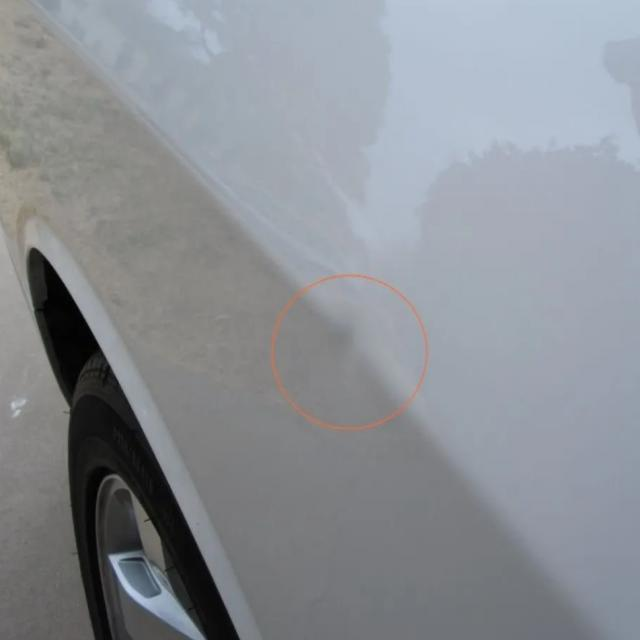dents: (326, 304, 374, 397)
